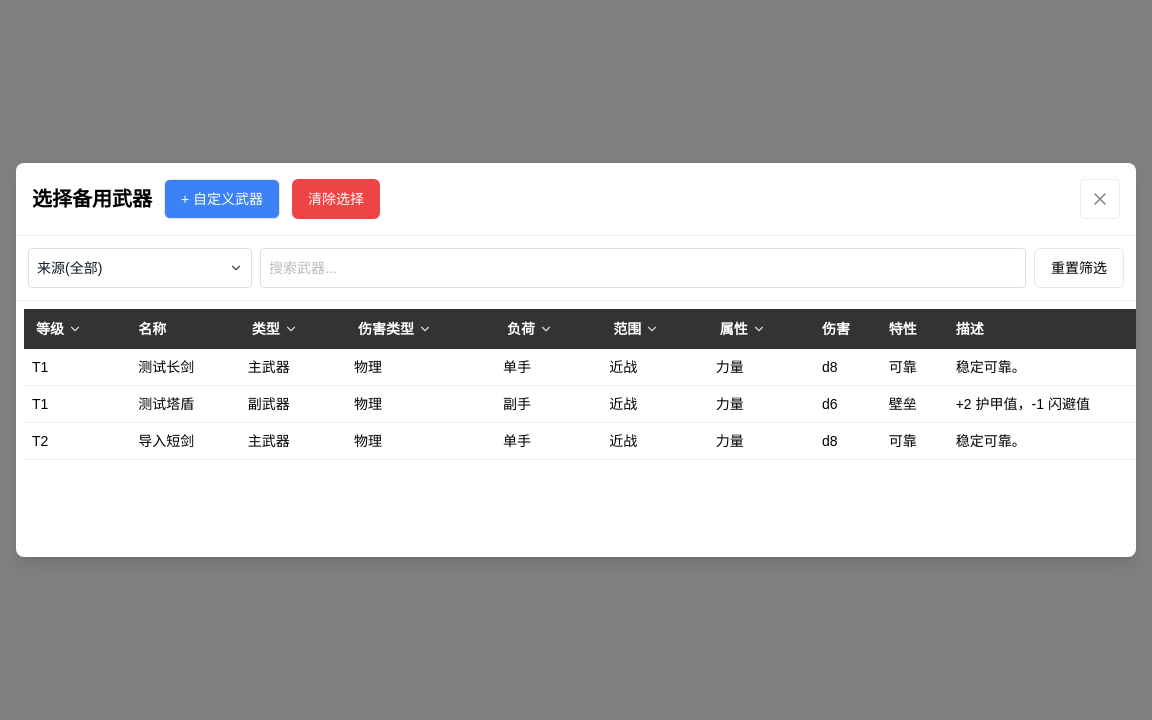
Scenario: equipment selection modals › fills a custom weapon draft from a clicked template instead of selecting immediately
Click the button "+ 自定义武器" at (222, 199), box [164,179,280,219]
(page scrolled)
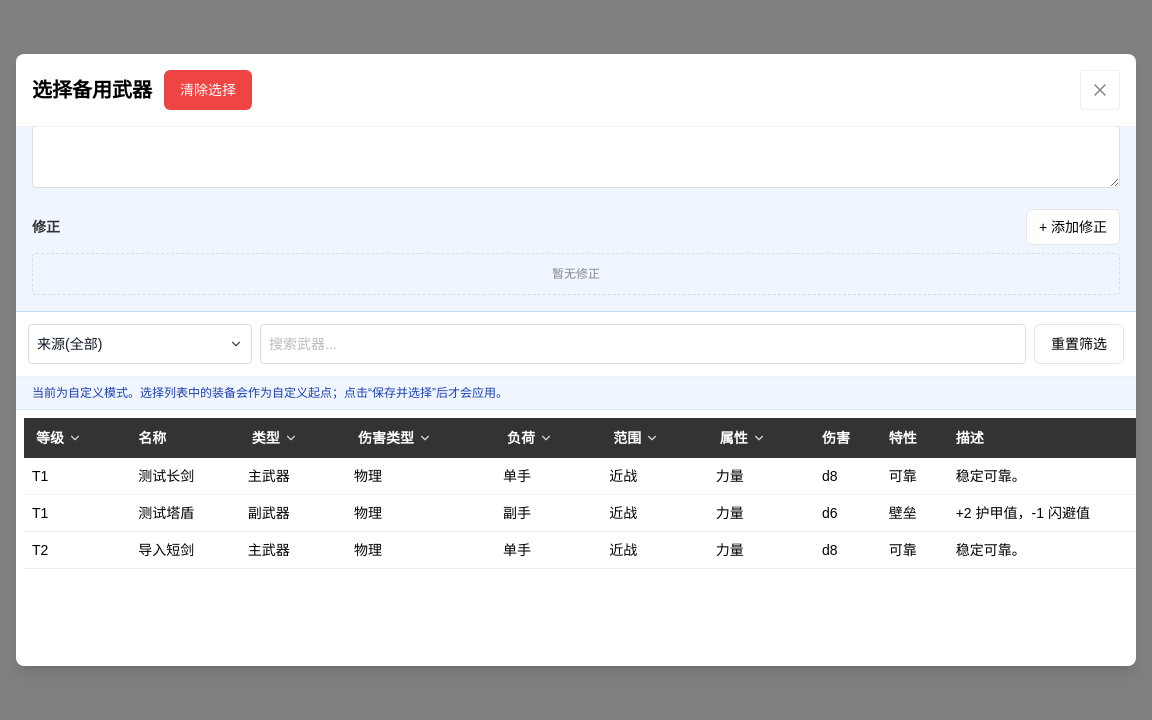
Click the text "测试塔盾" at (185, 513), box [130,494,240,532]
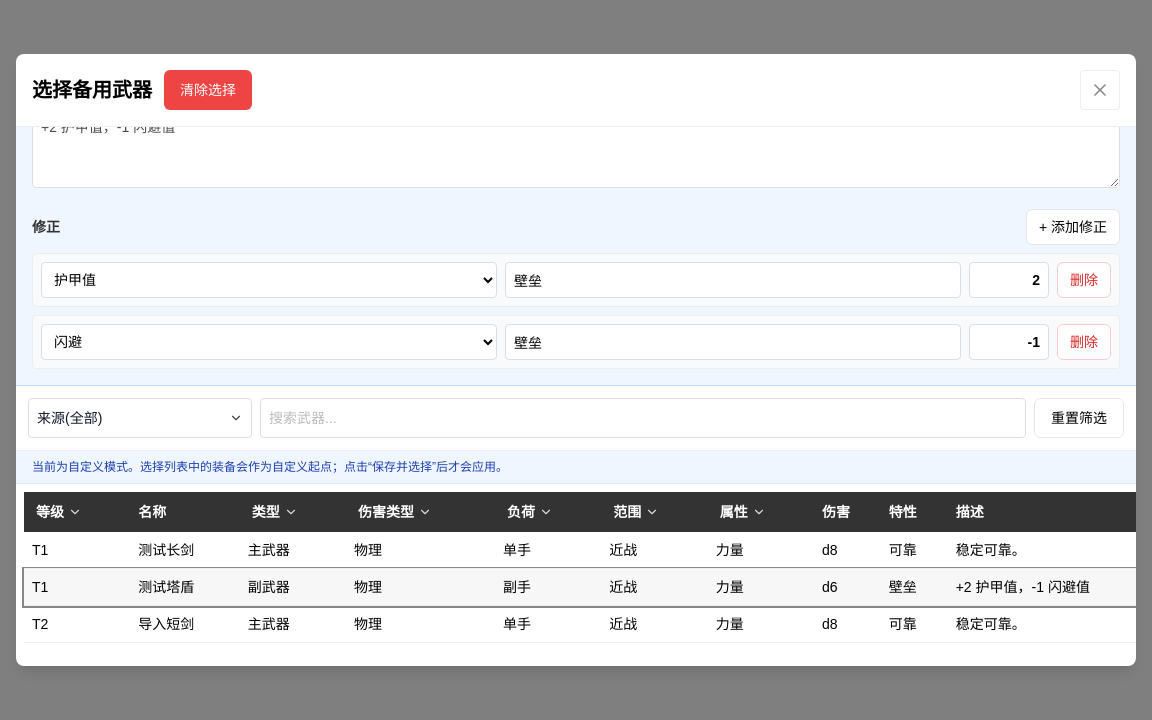
Now the text box showing "+2 护甲值，-1 闪避值" is shown, box [32,127,1120,188]
Now the 1st field showing "2" is shown, box [969,262,1049,298]
Now the 2nd field showing "-1" is shown, box [969,324,1049,360]
